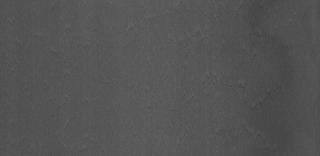silk spot: (163, 24, 224, 118), (233, 22, 279, 116)
